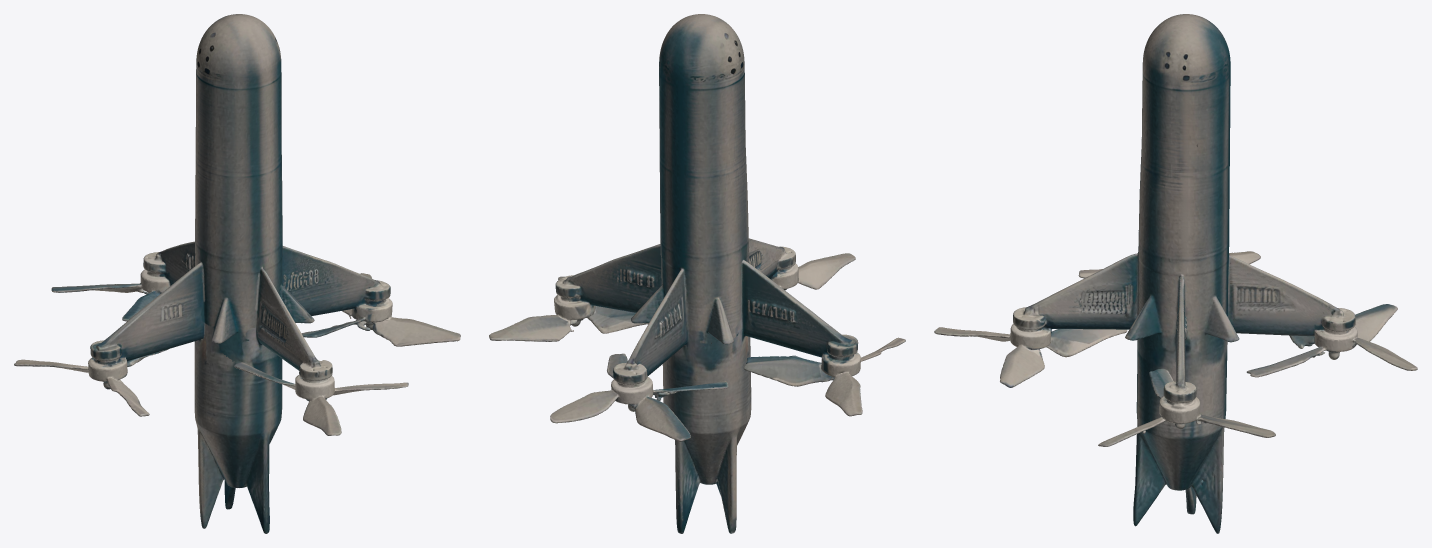
Rendered from odin_drone_interceptor.glb.
3 renders of one model, left to right at view 1: azimuth 30°, elevation 25°; view 2: azimuth 150°, elevation 25°; view 3: azimuth 270°, elevation 25°, orthographic.
Parts seen in each view (by area): view 1: tripo_node_0a9b8990; view 2: tripo_node_0a9b8990; view 3: tripo_node_0a9b8990.
Boxes of the visible parts, <box> form: tripo_node_0a9b8990: <box>14,14,460,533</box>; tripo_node_0a9b8990: <box>489,14,905,533</box>; tripo_node_0a9b8990: <box>934,14,1417,533</box>.
Size of the model in its own units: 0.7769 by 1 by 0.8549.
Materials: 1 (1 with a texture image).
